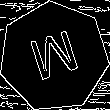M_S: (25, 26, 83, 88)
